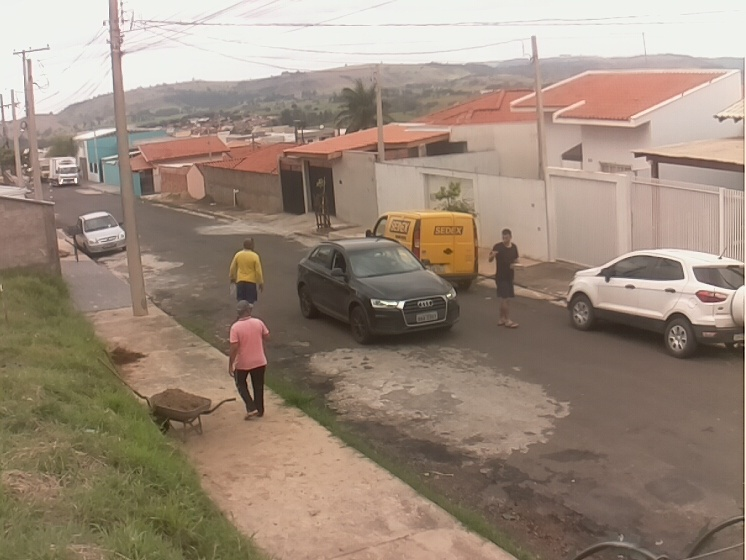person: (227, 300, 272, 423), (488, 228, 522, 330), (227, 236, 266, 308)
